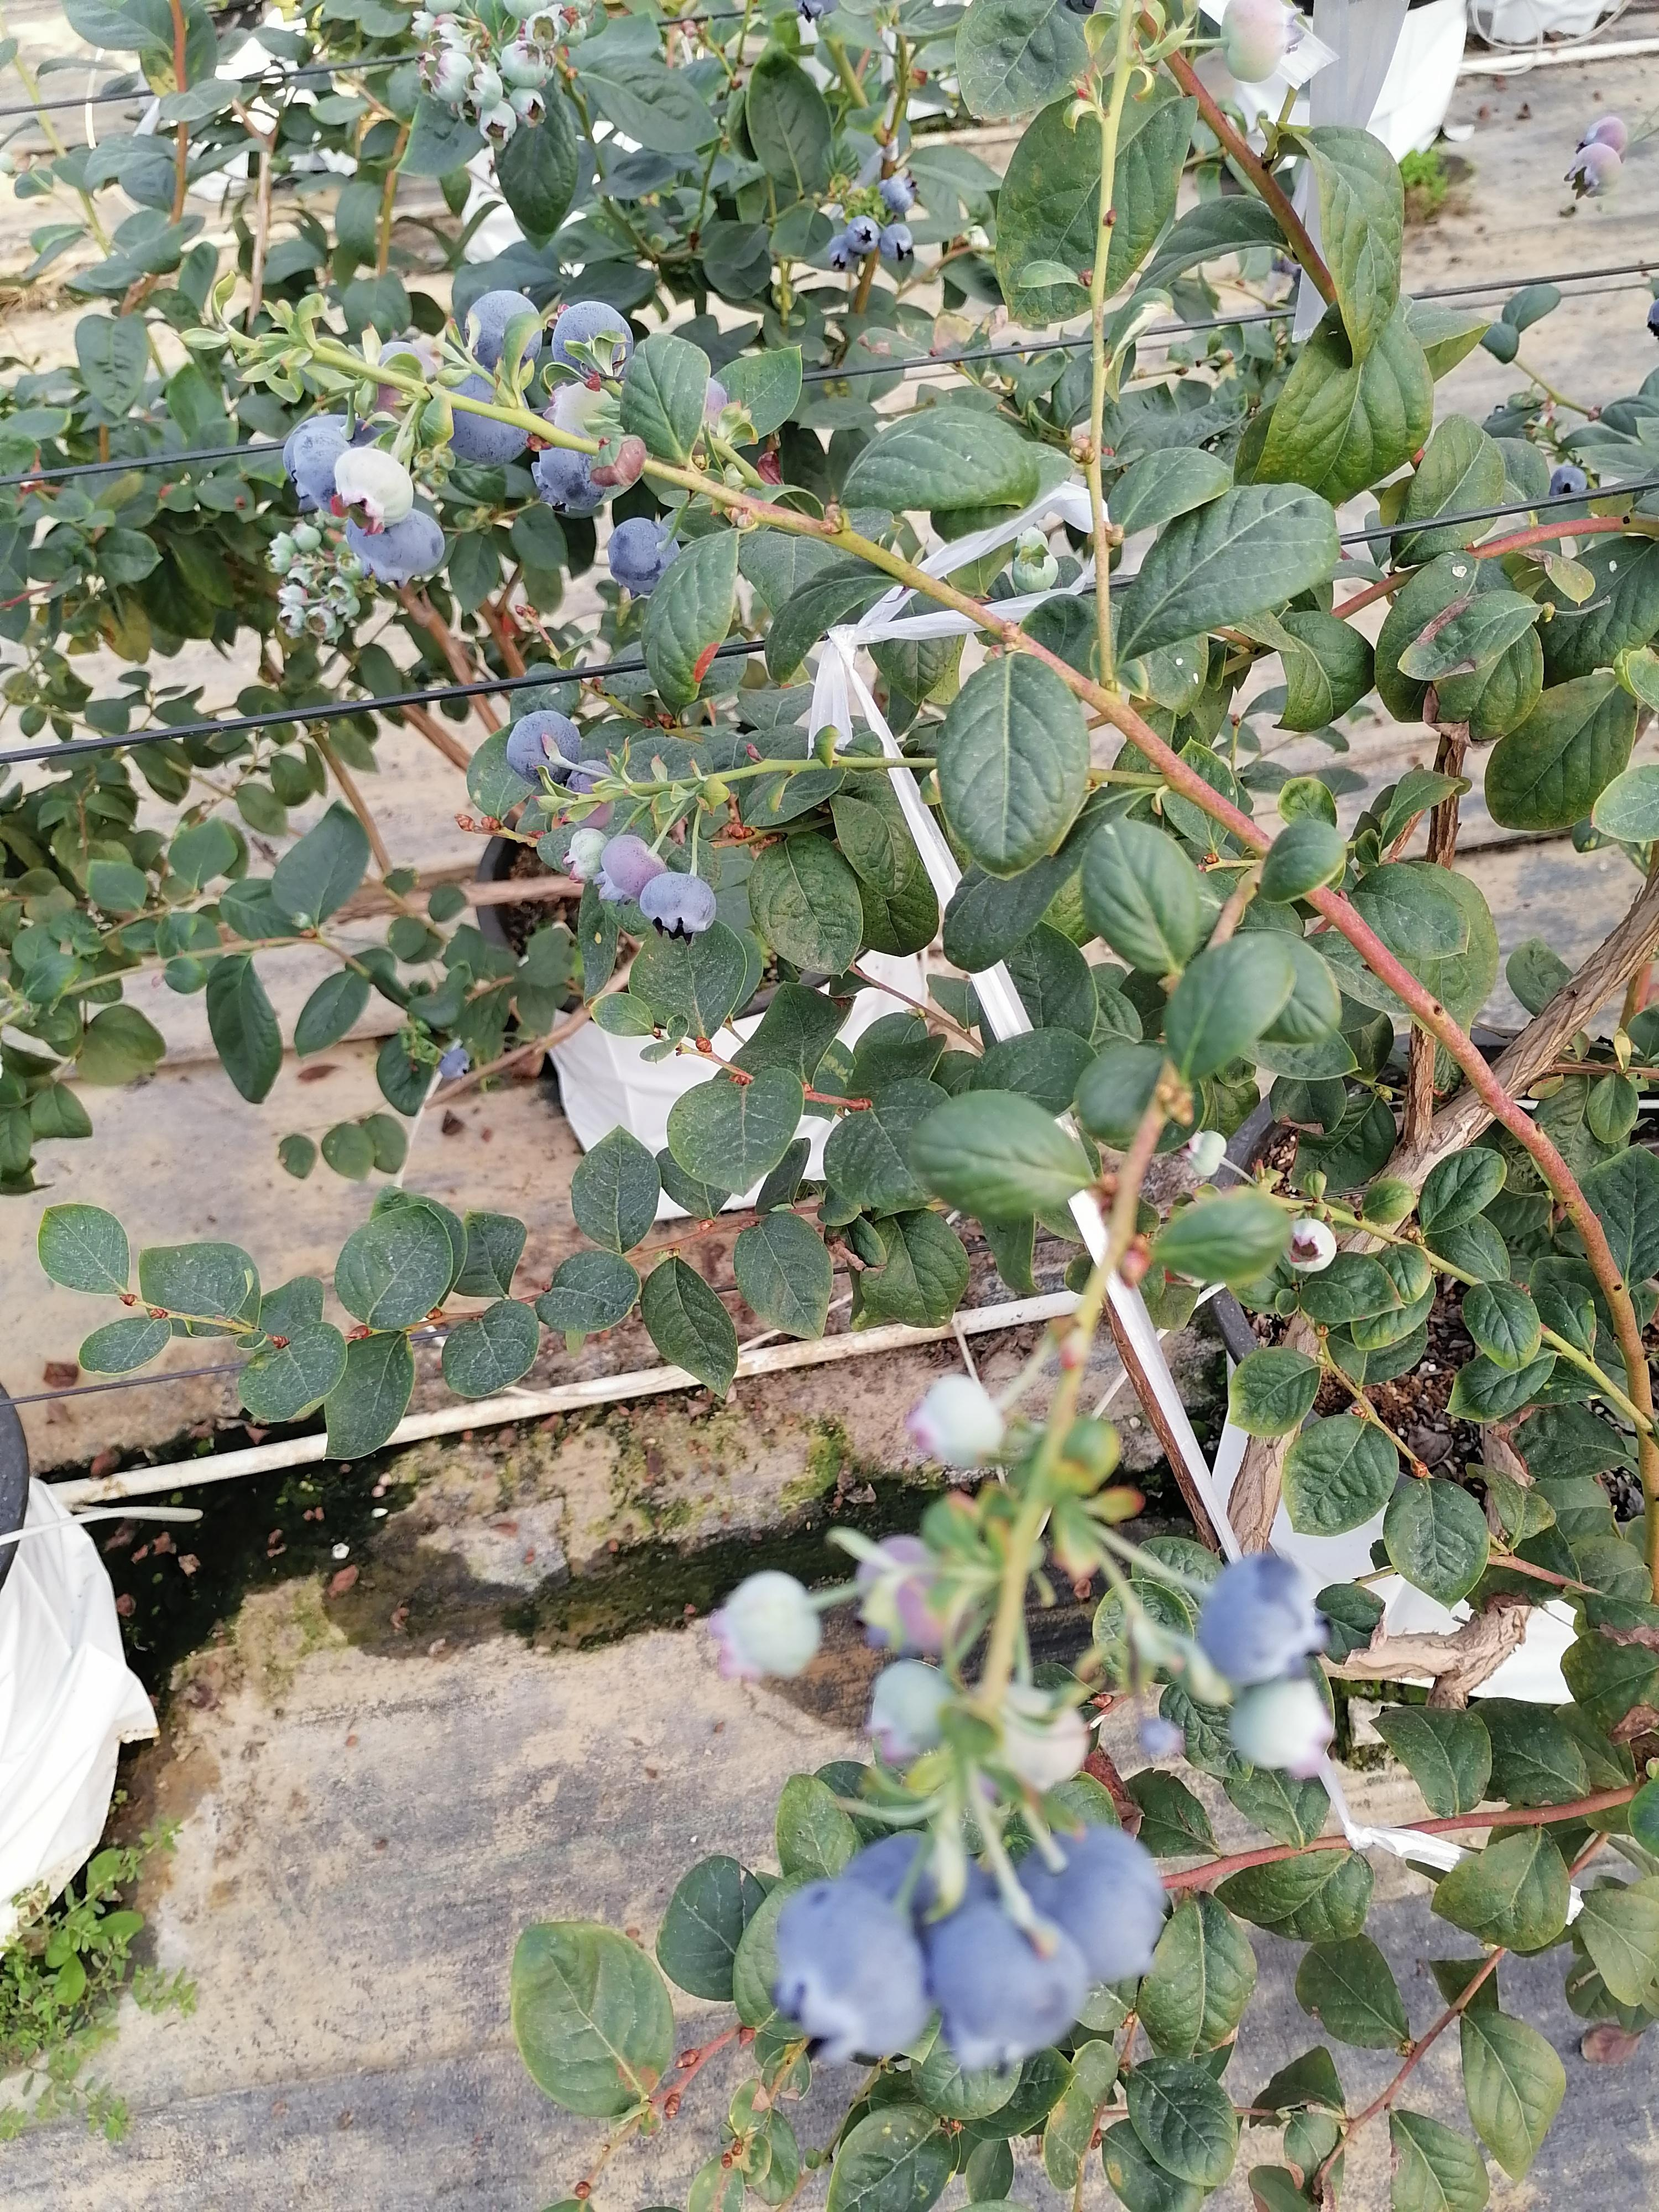ripe-blueberries: (777, 1879, 931, 2060), (929, 1897, 1089, 2069), (1019, 1825, 1168, 1987), (852, 1829, 993, 1949), (1199, 1550, 1321, 1686), (281, 411, 380, 514), (441, 368, 532, 467), (345, 509, 444, 589), (552, 301, 634, 385), (465, 289, 544, 373), (606, 517, 681, 601), (505, 711, 584, 789), (638, 871, 716, 948), (533, 449, 605, 514), (843, 216, 882, 254), (882, 176, 918, 214), (880, 223, 913, 261), (828, 233, 857, 270), (1549, 467, 1586, 495), (439, 1049, 471, 1078)
